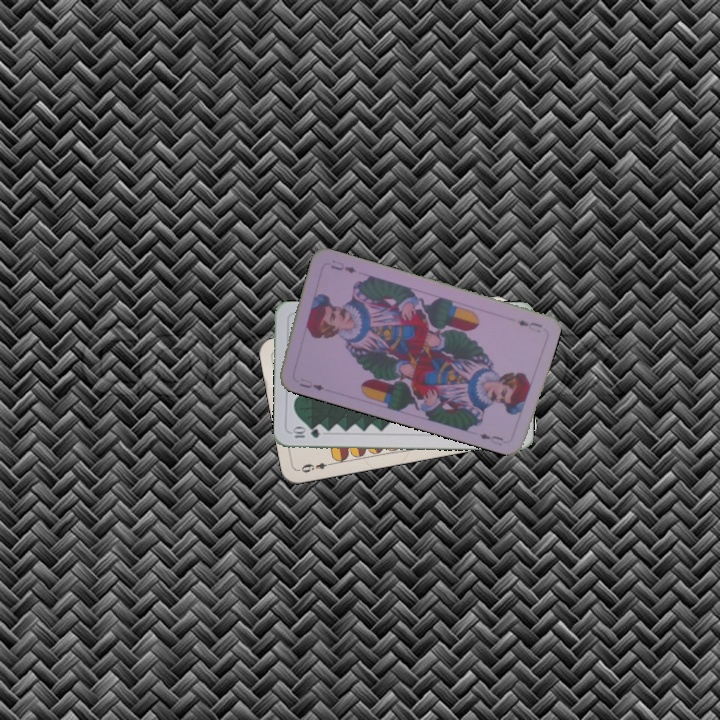E9: (295, 459, 336, 475)
EU: (295, 374, 326, 393), (513, 316, 545, 333)
G10: (288, 425, 323, 440)
